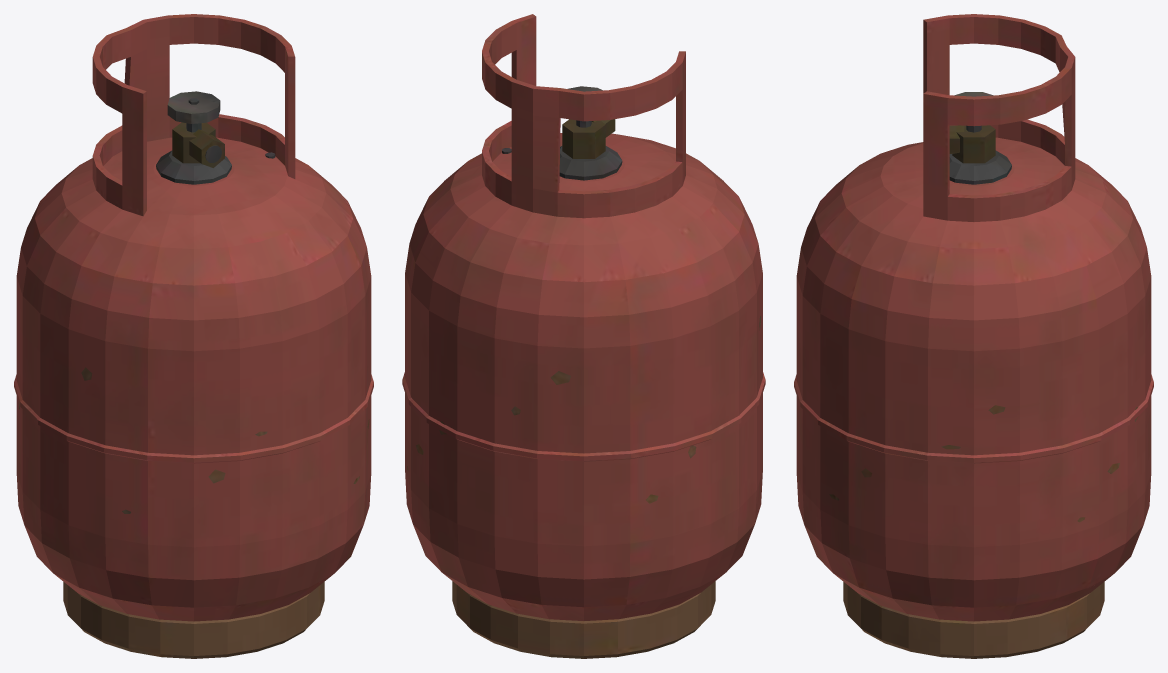
The model's file is K15_gas_cylinder.glb.
3 views of the same model, side by side, from view 1: azimuth 30°, elevation 25°; view 2: azimuth 150°, elevation 25°; view 3: azimuth 270°, elevation 25° (orthographic).
Visible parts, largest first — view 1: LPG pressure vessel; view 2: LPG pressure vessel; view 3: LPG pressure vessel.
Boxes of the visible parts, x1,y1,x2,y2 form: LPG pressure vessel: (14, 14, 373, 658); LPG pressure vessel: (402, 14, 765, 658); LPG pressure vessel: (794, 14, 1153, 658).
Bounding box in the file's own units: 0.416 × 0.7 × 0.416.
5 materials, 5 textured.
